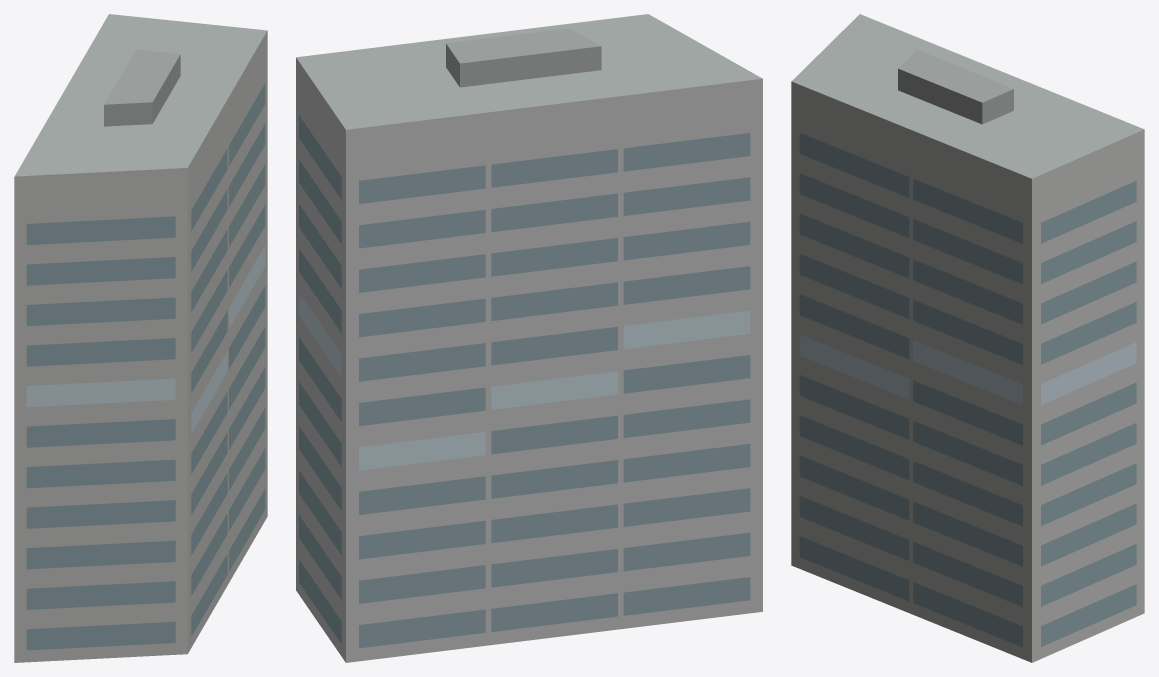
The model's file is fallback-olympic-athletes-village-243.glb.
3 renders of one model, left to right at view 1: azimuth 30°, elevation 25°; view 2: azimuth 150°, elevation 25°; view 3: azimuth 270°, elevation 25°, orthographic. The views are drawn at different scales.
Visible parts, largest first — view 1: fallback-olympic-athletes-village-243; view 2: fallback-olympic-athletes-village-243; view 3: fallback-olympic-athletes-village-243.
Boxes of the visible parts, left/top/right/bottom form: fallback-olympic-athletes-village-243: left=14, top=14, right=267, bottom=662; fallback-olympic-athletes-village-243: left=296, top=14, right=762, bottom=662; fallback-olympic-athletes-village-243: left=791, top=14, right=1144, bottom=662.
Size of the model in its own units: 26.74 by 38.25 by 24.19.
